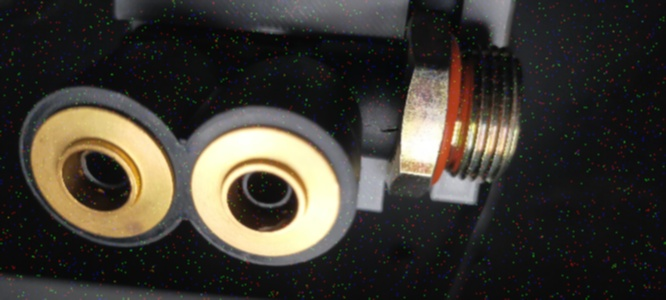craze: (379, 126, 401, 138)
joint line: (363, 121, 374, 130)
